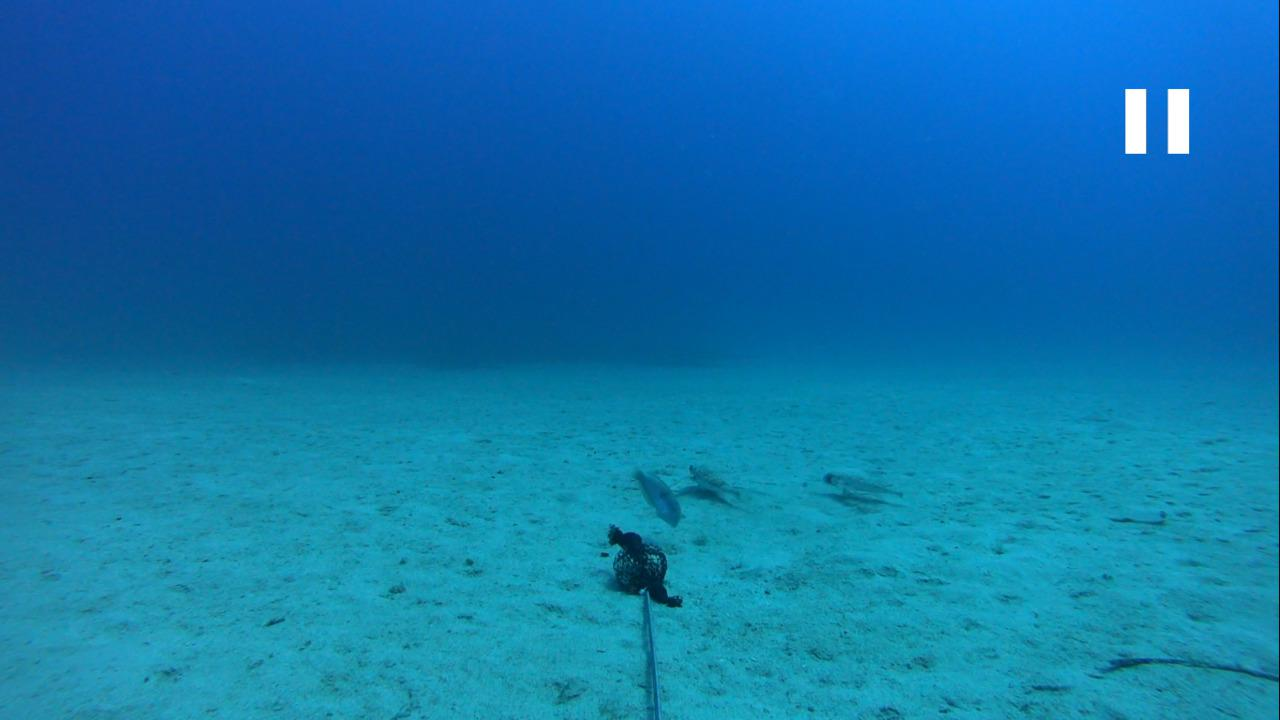bothus: (1092, 507, 1168, 528)
dactylopterus: (675, 455, 752, 507), (808, 468, 899, 504)
raor: (625, 463, 682, 528)
